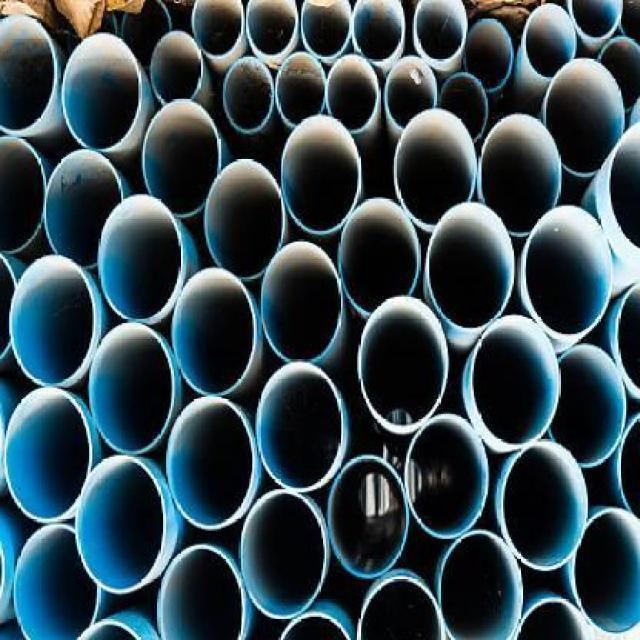pipe: (76, 456, 167, 593), (359, 297, 450, 432), (469, 315, 560, 448), (523, 205, 614, 338), (167, 397, 256, 530), (5, 388, 93, 522), (500, 440, 589, 571), (255, 362, 343, 493), (9, 256, 97, 385), (428, 203, 516, 331), (89, 323, 174, 454), (97, 193, 183, 322), (240, 490, 326, 619), (172, 268, 257, 396), (405, 412, 490, 537), (13, 523, 102, 640), (477, 114, 562, 236), (260, 240, 343, 362), (328, 454, 410, 577), (394, 109, 477, 228), (548, 343, 627, 468), (338, 197, 420, 316), (205, 161, 285, 282), (45, 149, 125, 268), (282, 117, 362, 236), (439, 529, 524, 640), (142, 100, 222, 217), (545, 59, 625, 176), (62, 33, 142, 150), (572, 507, 640, 636), (157, 545, 244, 640), (0, 14, 57, 134), (357, 575, 446, 640), (0, 137, 46, 253), (325, 54, 381, 134), (525, 3, 578, 80), (151, 29, 204, 105), (385, 54, 438, 128), (223, 57, 274, 133), (276, 51, 327, 127), (414, 2, 470, 67), (465, 20, 514, 93), (439, 74, 490, 142), (351, 2, 405, 65), (597, 35, 639, 111), (245, 2, 301, 59), (300, 2, 353, 61), (192, 2, 245, 61), (568, 2, 625, 41)
